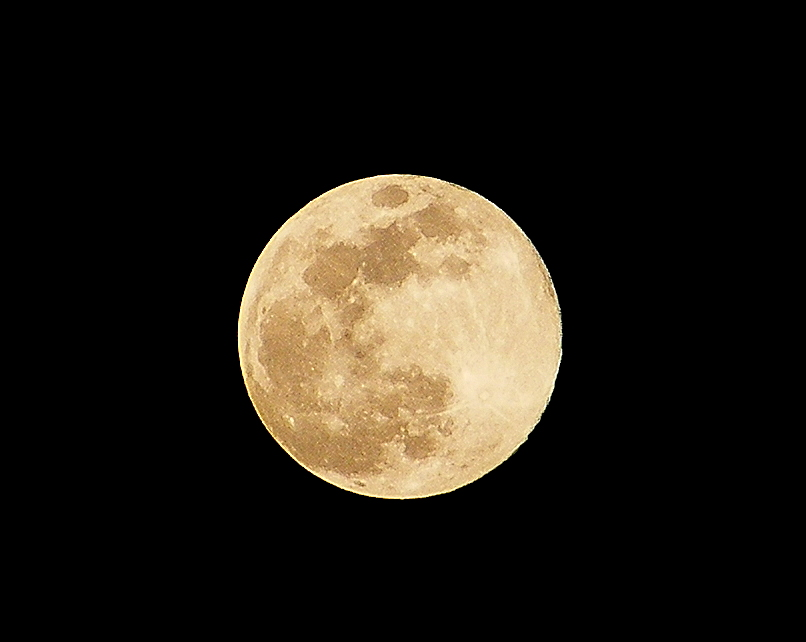crater: (438, 358, 526, 433), (294, 235, 368, 305), (313, 360, 364, 405), (359, 180, 420, 216), (323, 415, 356, 435), (348, 467, 376, 489), (257, 303, 279, 321), (454, 264, 466, 275)
